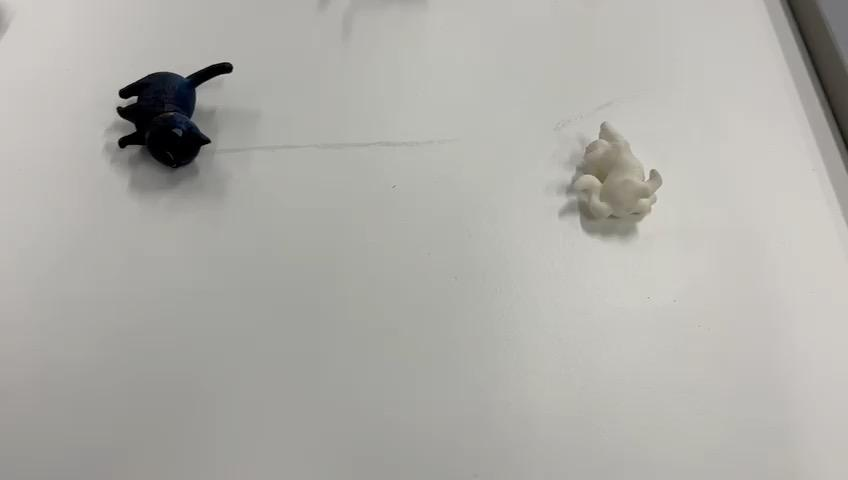pet: (109, 57, 240, 173), (566, 118, 668, 226)
